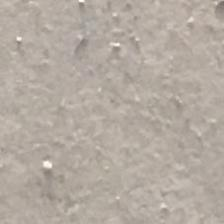Non_Crack: (21, 18, 200, 178)
